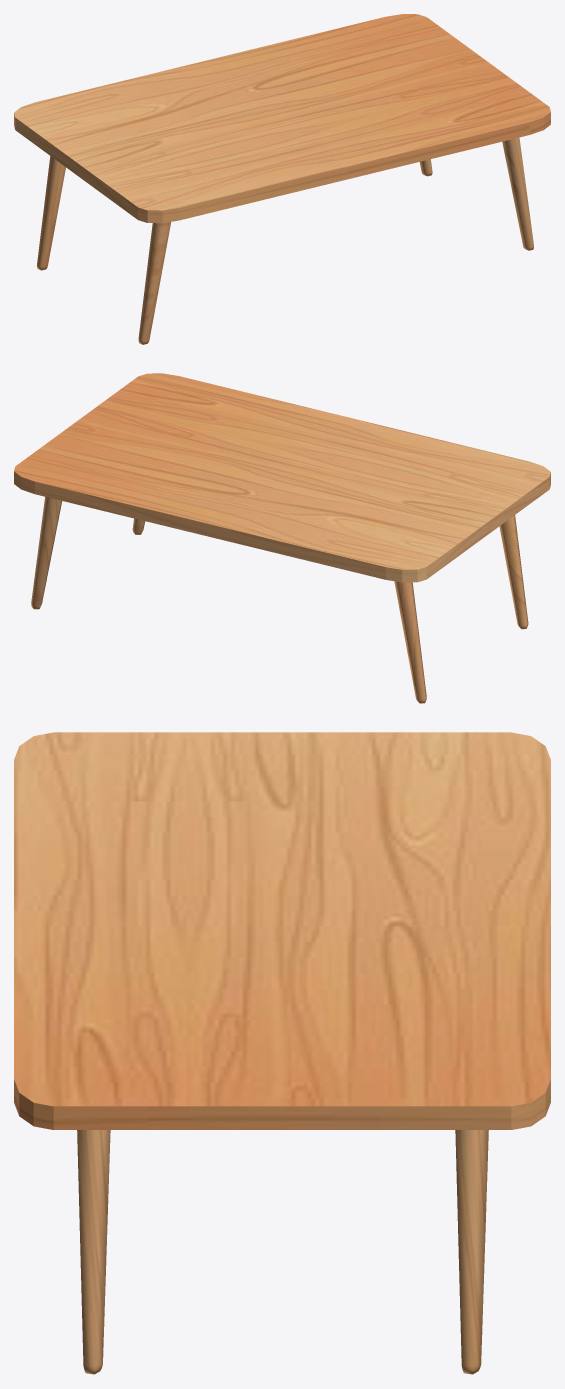
The model's file is Table2.fbx.
3 renders of one model, top to bottom at view 1: azimuth 30°, elevation 25°; view 2: azimuth 150°, elevation 25°; view 3: azimuth 270°, elevation 25°, orthographic. The views are drawn at different scales.
Visible parts, largest first — view 1: Table2; view 2: Table2; view 3: Table2.
Boxes of the visible parts, <box> form: Table2: <box>14,14,550,344</box>; Table2: <box>14,373,550,703</box>; Table2: <box>14,732,550,1374</box>.
Bounding box in the file's own units: 2488 × 1510 × 850.
